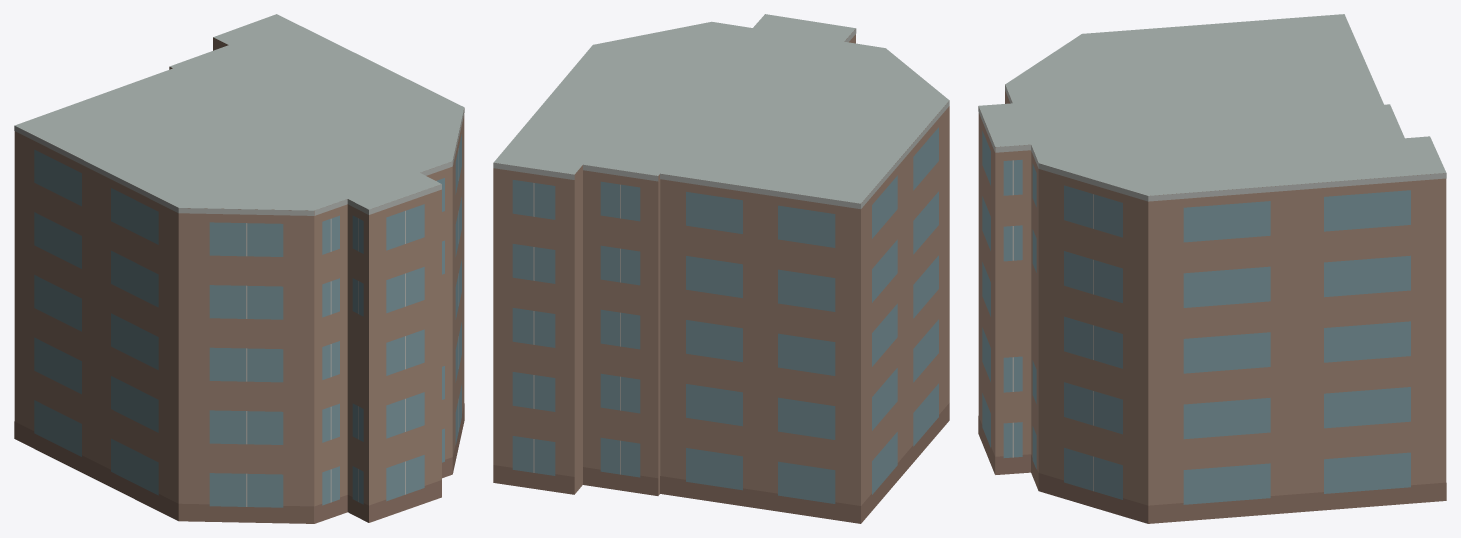
The model's file is survey-upis-32576587.glb.
The picture shows the model from 3 angles, left to right: view 1: azimuth 30°, elevation 25°; view 2: azimuth 150°, elevation 25°; view 3: azimuth 270°, elevation 25°; orthographic projection. The views are drawn at different scales.
Parts seen in each view (by area): view 1: survey-upis-32576587.tmp; view 2: survey-upis-32576587.tmp; view 3: survey-upis-32576587.tmp.
Boxes of the visible parts, left/top/right/bottom form: survey-upis-32576587.tmp: left=14, top=14, right=464, bottom=523; survey-upis-32576587.tmp: left=493, top=14, right=949, bottom=523; survey-upis-32576587.tmp: left=978, top=14, right=1446, bottom=523.
Bounding box in the file's own units: 16.9 × 14.2 × 18.38.
